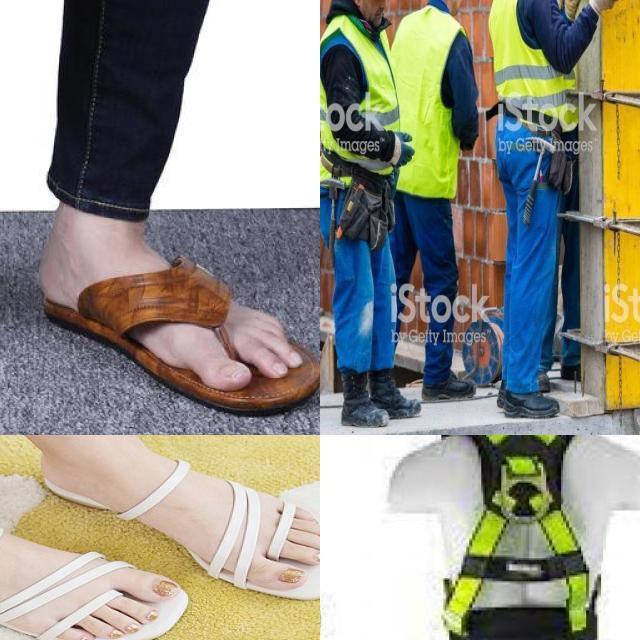Harness: (438, 435, 607, 640)
No_Ear-Protection: (352, 0, 362, 9)
Sandals: (0, 435, 320, 640), (42, 197, 320, 416)
boots: (334, 364, 392, 428), (367, 363, 421, 425)
face_nomask: (353, 0, 388, 31)
hand_glove: (390, 126, 417, 182), (584, 0, 627, 21), (559, 0, 584, 26)
person: (335, 0, 397, 428), (488, 0, 551, 415), (408, 0, 467, 391), (525, 0, 580, 382)
shoes: (414, 359, 481, 408), (502, 376, 561, 422)
vest: (320, 23, 396, 181), (399, 5, 461, 196), (491, 0, 551, 107)
